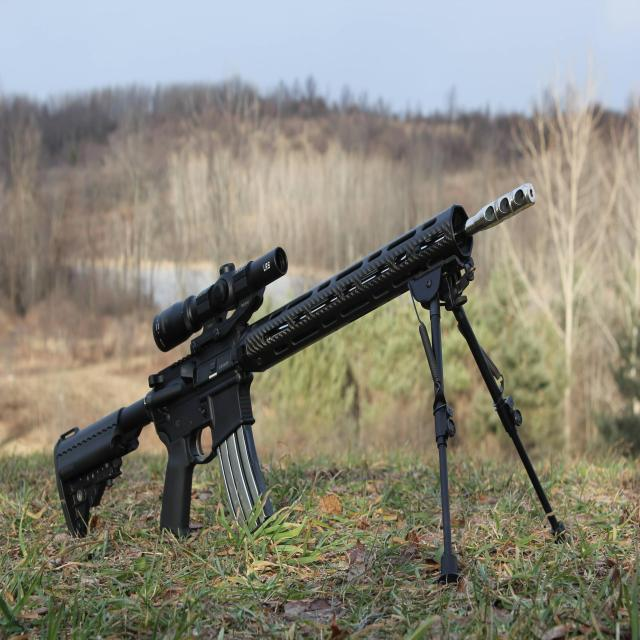Rifle: (53, 194, 531, 539)
